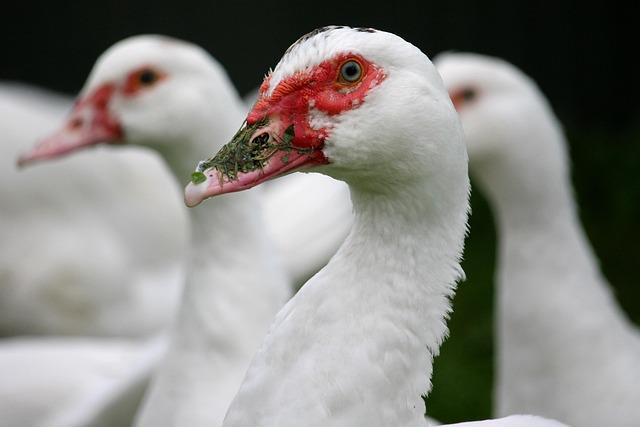Non_Gorille: (8, 22, 626, 427)
